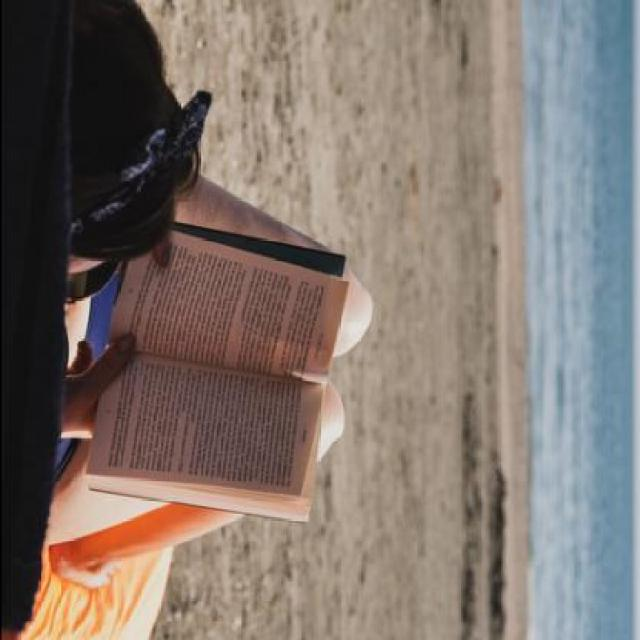book: (60, 198, 367, 552)
